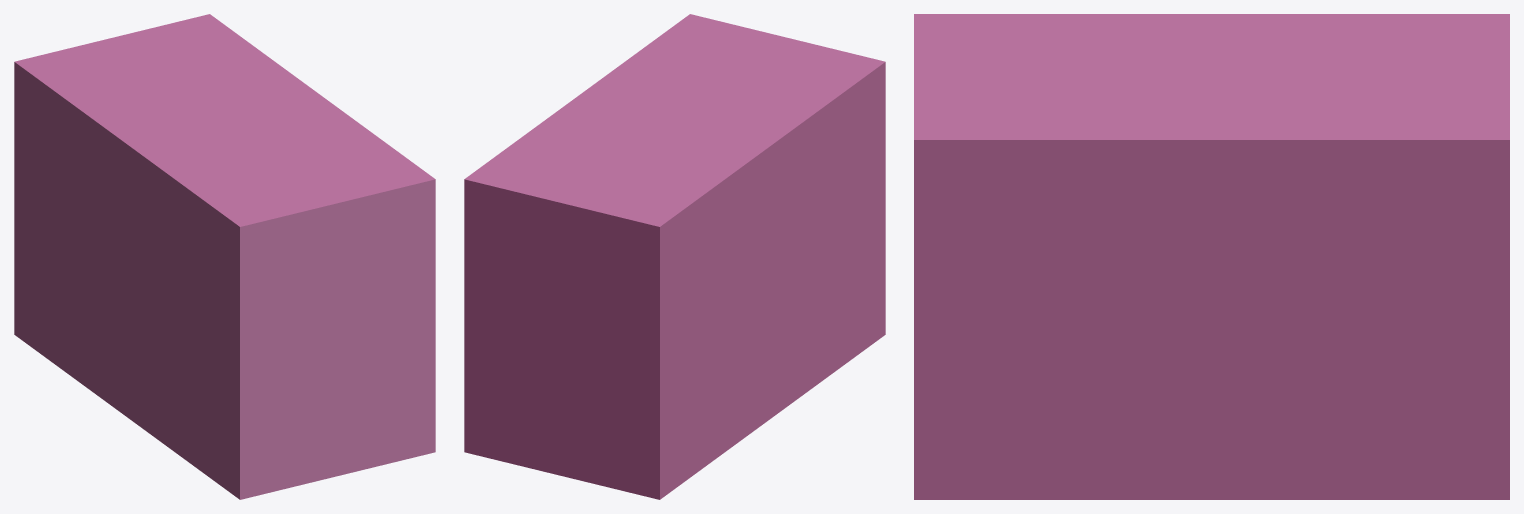
Rendered from squidgame_props_platform6_pink.fbx.
The picture shows the model from 3 angles, left to right: view 1: azimuth 30°, elevation 25°; view 2: azimuth 150°, elevation 25°; view 3: azimuth 270°, elevation 25°; orthographic projection. The views are drawn at different scales.
Parts seen in each view (by area): view 1: squidgame_props_platform6_pink; view 2: squidgame_props_platform6_pink; view 3: squidgame_props_platform6_pink.
Part boxes in pixels (bbox=[...]): squidgame_props_platform6_pink: bbox=[14, 14, 435, 499]; squidgame_props_platform6_pink: bbox=[464, 14, 885, 499]; squidgame_props_platform6_pink: bbox=[914, 14, 1509, 499].
Bounding box in the file's own units: 0.75 × 1 × 1.5.
